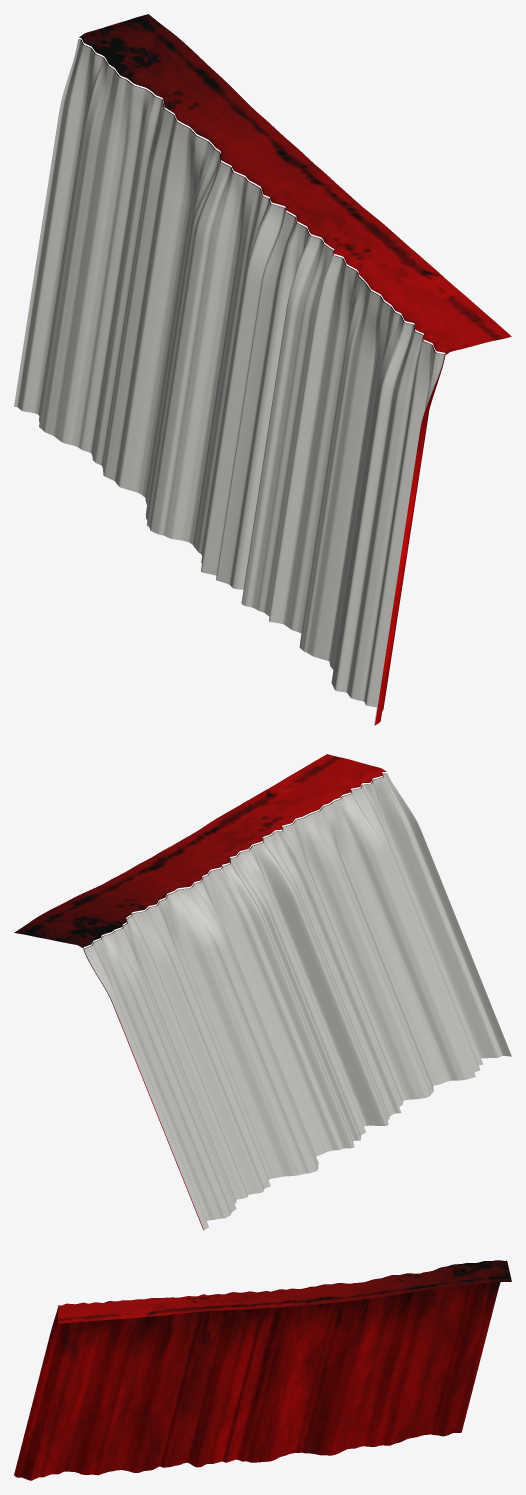
The model's file is path.glb.
3 views of the same model, one above another, from view 1: azimuth 30°, elevation 25°; view 2: azimuth 150°, elevation 25°; view 3: azimuth 270°, elevation 25° (orthographic). The views are drawn at different scales.
Visible parts, largest first — view 1: fade_face, path, face_outer; view 2: fade_face, path, face_outer; view 3: face_outer, path.
Boxes of the visible parts, bbox=[...] form: fade_face: bbox=[14, 39, 444, 725]; path: bbox=[79, 14, 511, 355]; face_outer: bbox=[79, 39, 445, 725]; fade_face: bbox=[84, 773, 511, 1230]; path: bbox=[14, 754, 386, 948]; face_outer: bbox=[83, 773, 384, 1230]; face_outer: bbox=[14, 1282, 500, 1480]; path: bbox=[58, 1260, 511, 1323].
Bounding box in the file's own units: 9.52 × 19.42 × 35.8.
3 materials, 2 textured.
